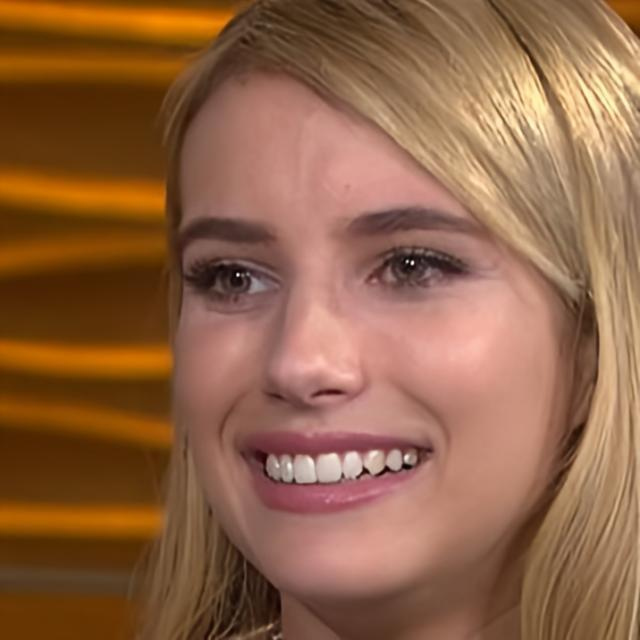happy: (174, 57, 567, 602)
